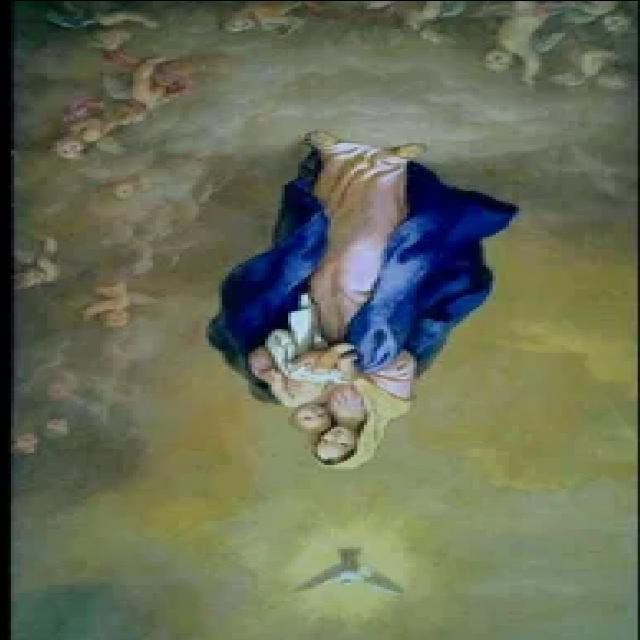mother of god: (202, 120, 520, 482)
